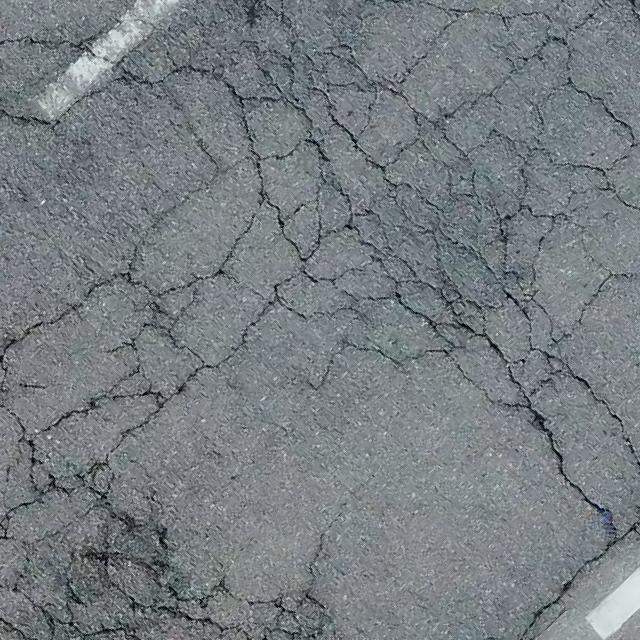GRIETA: (518, 544, 611, 639)
PIEL DE COCODRILO: (0, 0, 639, 639)
